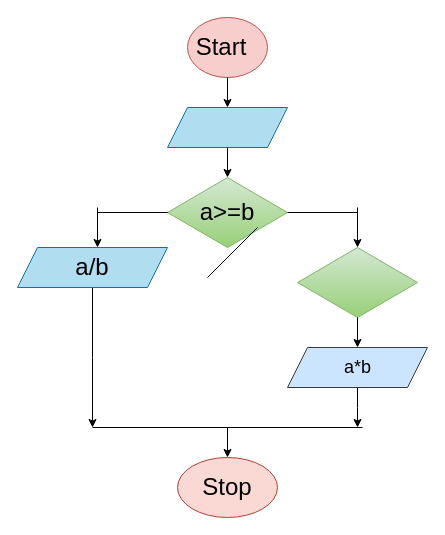
Image size: 445x535. Some labels were removed from this diagram. The shapes that lost their labels are listed below. From the top down, each one's centre as x and y in pixels, then its label:
[227,127]: Input a,b
[357,282]: a<=b
